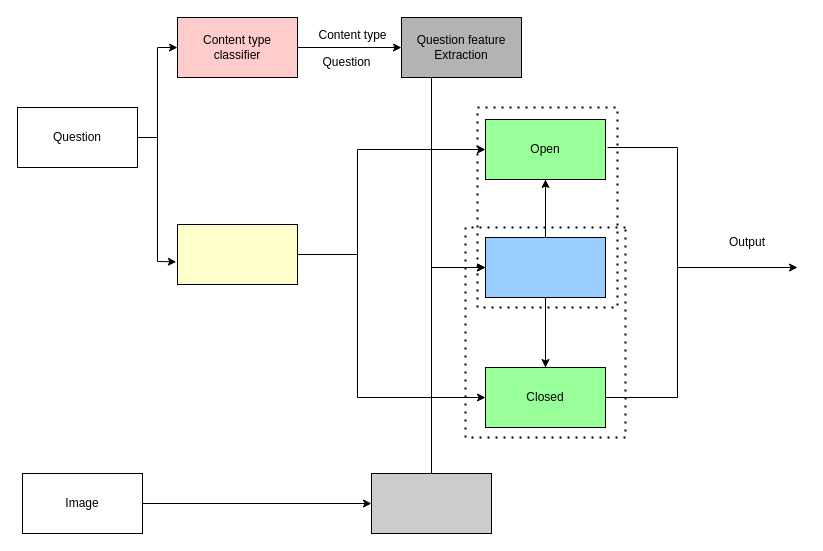
The diagram is 823 pixels wide and 551 high, and some of its shapes have lost their labels. The shapes that lost their labels are listed below. From the top down, each one's centre as x and y in pixels, then its label:
At (237,254): "Open-Close Classifier".
At (545,267): "Feature Fusion".
At (431,503): "Image feature Extration".
